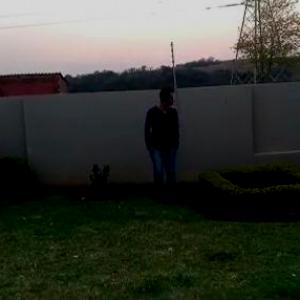follow: (140, 82, 180, 213)
